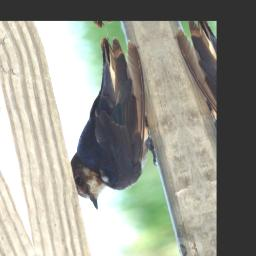Swallow: (35, 30, 180, 215)
